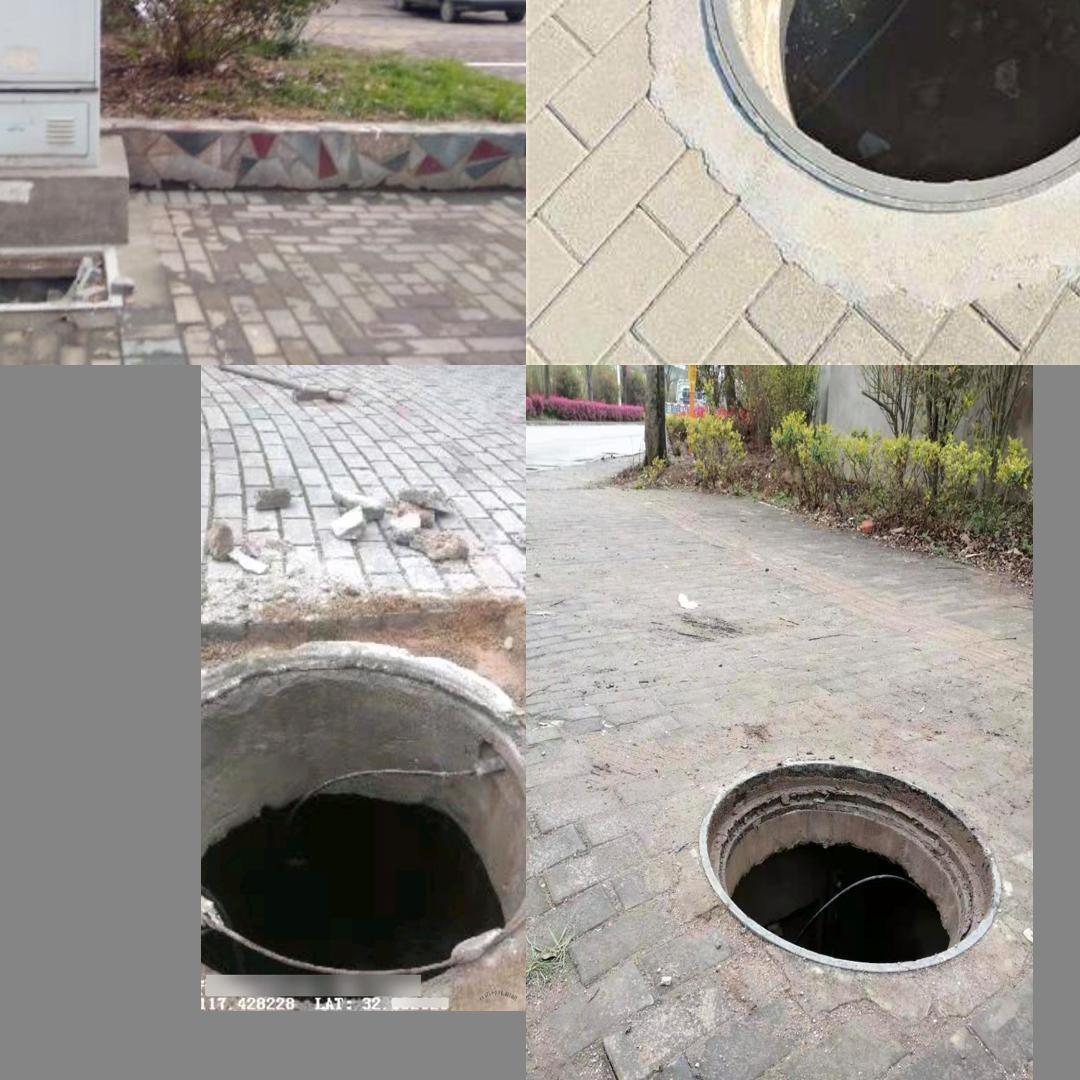lose: (662, 0, 1080, 266), (201, 649, 526, 985), (698, 756, 1000, 970), (0, 240, 122, 324)
